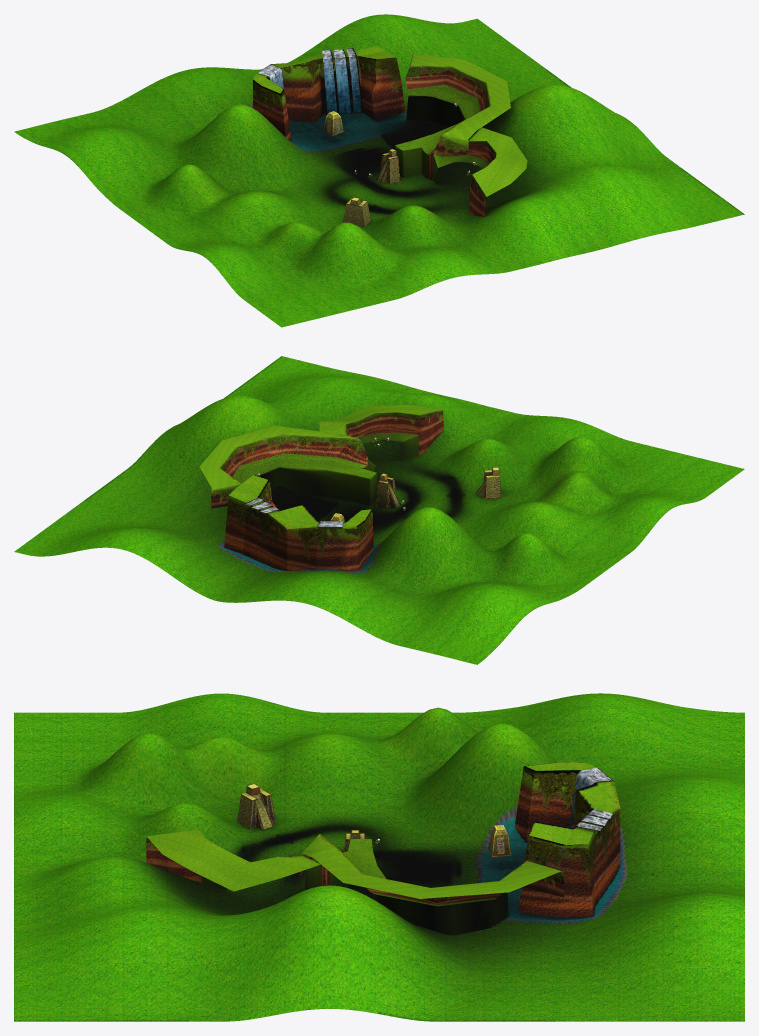
Rendered from escenario1.obj.
3 renders of one model, top to bottom at view 1: azimuth 30°, elevation 25°; view 2: azimuth 150°, elevation 25°; view 3: azimuth 270°, elevation 25°, orthographic. The views are drawn at different scales.
Parts seen in each view (by area): view 1: pCube1.005; view 2: pCube1.005; view 3: pCube1.005.
Boxes of the visible parts, x1,y1,x2,y2 form: pCube1.005: (14,14,744,327); pCube1.005: (14,356,744,664); pCube1.005: (14,693,744,1021).
Bounding box in the file's own units: 41.91 × 7.46 × 41.91.
9 materials, 9 textured.
